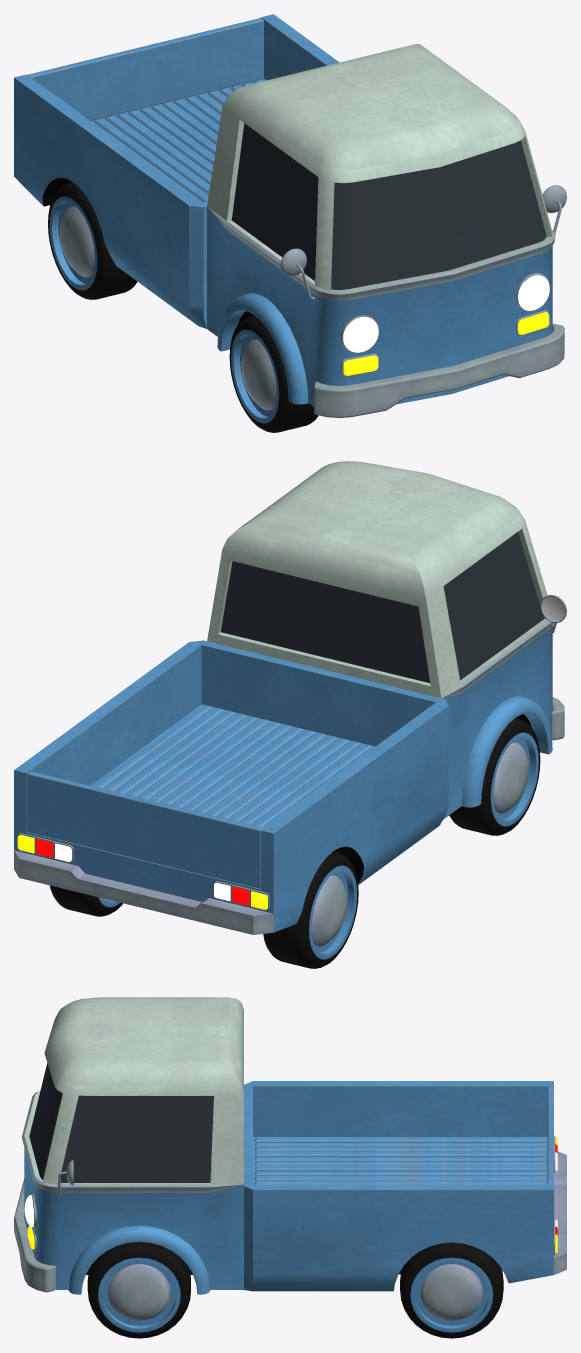
The model's file is voiture.40499d7b.glb.
3 renders of one model, top to bottom at view 1: azimuth 30°, elevation 25°; view 2: azimuth 150°, elevation 25°; view 3: azimuth 270°, elevation 25°, orthographic. The views are drawn at different scales.
Parts seen in each view (by area): view 1: Pick Up 3D Illustration, Trunk, Wheels, Front Bumper, Slider, Offer Fender, Head Lamp, Mirror, Front Fog Lamp; view 2: Pick Up 3D Illustration, Trunk, Slider, Wheels, Offer Fender, Rear Light, Mirror; view 3: Pick Up 3D Illustration, Wheels, Slider, Offer Fender, Front Bumper, Trunk.
Boxes of the visible parts, bbox=[...] form: Pick Up 3D Illustration: bbox=[14, 14, 555, 406]; Trunk: bbox=[28, 18, 263, 120]; Wheels: bbox=[48, 182, 318, 432]; Front Bumper: bbox=[314, 323, 564, 417]; Slider: bbox=[93, 80, 261, 201]; Offer Fender: bbox=[217, 293, 308, 404]; Head Lamp: bbox=[341, 273, 549, 353]; Mirror: bbox=[280, 185, 566, 299]; Front Fog Lamp: bbox=[341, 310, 549, 376]; Pick Up 3D Illustration: bbox=[14, 461, 553, 934]; Trunk: bbox=[27, 771, 263, 888]; Slider: bbox=[95, 705, 371, 827]; Wheels: bbox=[50, 718, 540, 968]; Offer Fender: bbox=[461, 696, 552, 807]; Rear Light: bbox=[17, 833, 269, 910]; Mirror: bbox=[540, 595, 566, 634]; Pick Up 3D Illustration: bbox=[21, 997, 566, 1291]; Wheels: bbox=[87, 1242, 503, 1338]; Slider: bbox=[255, 1138, 545, 1184]; Offer Fender: bbox=[68, 1225, 210, 1294]; Front Bumper: bbox=[14, 1179, 55, 1292]; Trunk: bbox=[547, 1086, 553, 1184].
Size of the model in its own units: 0.494 by 0.4947 by 0.9626.
1 material, 1 textured.
